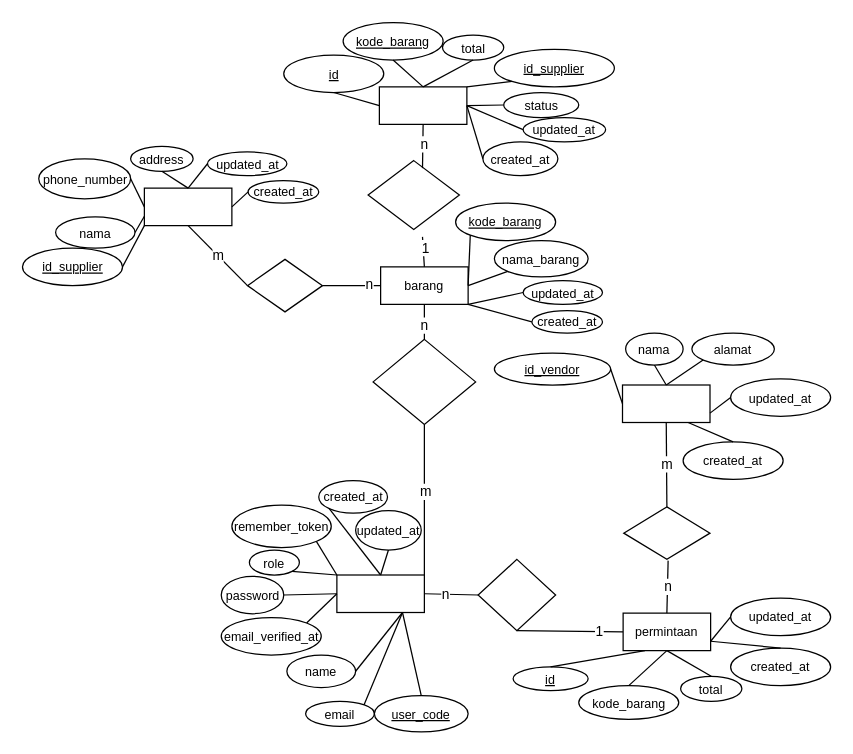
The diagram is 853 pixels wide and 754 high, and some of its shapes have lost their labels. The box of each missing label's shape, as (x1, y1, x2, y2) in pixels:
digunakan: (477, 558, 556, 631)
dipilih: (622, 506, 710, 559)
mengadakan: (367, 159, 459, 229)
mengelola: (372, 338, 476, 424)
mengirim: (246, 258, 322, 312)
pengadaan: (378, 86, 467, 124)
supplier: (143, 187, 232, 226)
users: (336, 574, 424, 612)
vendor: (621, 384, 710, 422)
